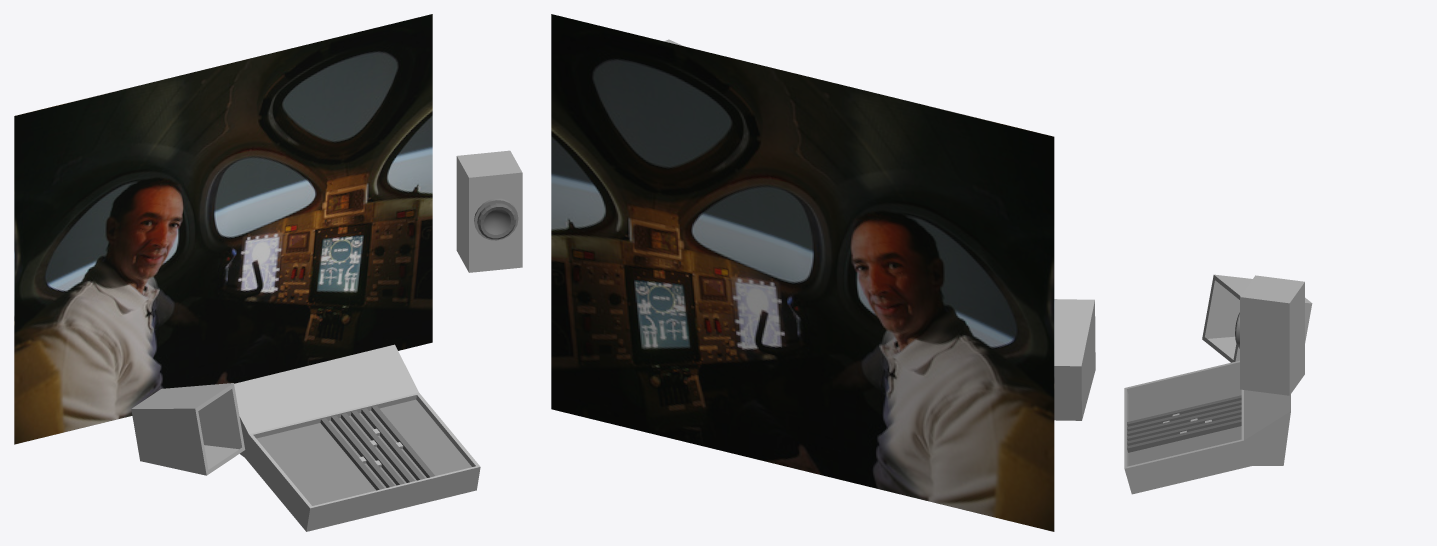
File: control room test.fbx
3 renders of one model, left to right at view 1: azimuth 30°, elevation 25°; view 2: azimuth 150°, elevation 25°; view 3: azimuth 270°, elevation 25°, orthographic. The views are drawn at different scales.
Visible parts, largest first — view 1: pPlane1, music_mis_control, monitor, box, speaker, pCube3, pasted__pCube4, pasted__pCube5, pasted__pasted__pasted__pCube5, pasted__pCube3, pasted__pasted__pCube5; view 2: pPlane1, monitor; view 3: music_mis_control, box, monitor, pasted__pasted__pasted__pCube5, pCube3, pasted__pasted__pCube5, pasted__pCube4, pasted__pCube5, pasted__pCube3.
Part boxes in pixels (left/top/right/bottom): pPlane1: left=14, top=14, right=432, bottom=444; music_mis_control: left=234, top=344, right=480, bottom=531; monitor: left=131, top=383, right=245, bottom=475; box: left=456, top=150, right=522, bottom=272; speaker: left=477, top=203, right=516, bottom=239; pCube3: left=320, top=418, right=384, bottom=490; pasted__pCube4: left=340, top=413, right=404, bottom=485; pasted__pCube5: left=351, top=410, right=414, bottom=482; pasted__pasted__pasted__pCube5: left=371, top=405, right=434, bottom=477; pasted__pCube3: left=331, top=415, right=394, bottom=487; pasted__pasted__pCube5: left=361, top=408, right=424, bottom=480; pPlane1: left=551, top=14, right=1054, bottom=531; monitor: left=1054, top=299, right=1095, bottom=420; music_mis_control: left=1124, top=360, right=1290, bottom=494; box: left=1240, top=275, right=1304, bottom=395; monitor: left=1202, top=274, right=1312, bottom=362; pasted__pasted__pasted__pCube5: left=1127, top=419, right=1241, bottom=452; pCube3: left=1127, top=395, right=1241, bottom=426; pasted__pasted__pCube5: left=1127, top=414, right=1241, bottom=445; pasted__pCube4: left=1127, top=405, right=1241, bottom=436; pasted__pCube5: left=1127, top=409, right=1241, bottom=440; pasted__pCube3: left=1127, top=400, right=1241, bottom=431.
Size of the model in its own units: 31.1 by 23.73 by 19.31.
4 materials, 1 textured.
